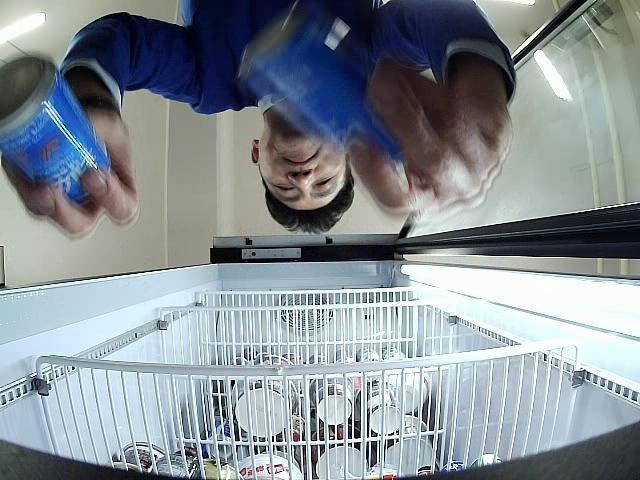15_letsbe: (240, 1, 408, 170), (0, 52, 111, 207)
